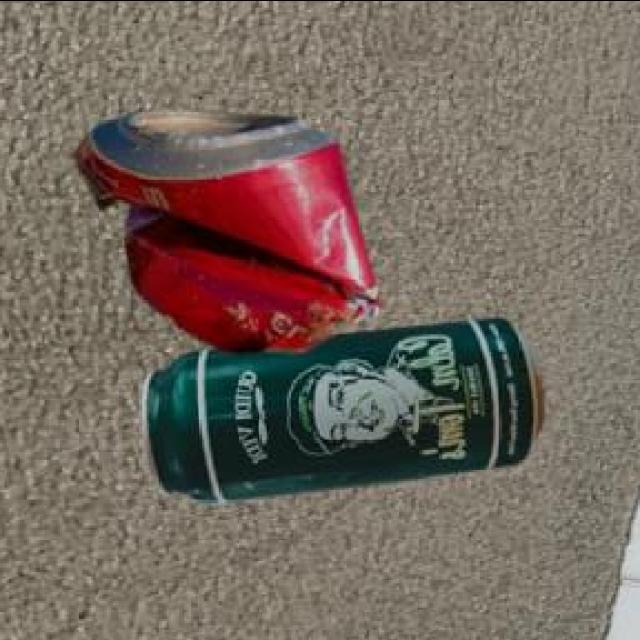logam: (146, 321, 548, 506), (79, 114, 386, 354)
